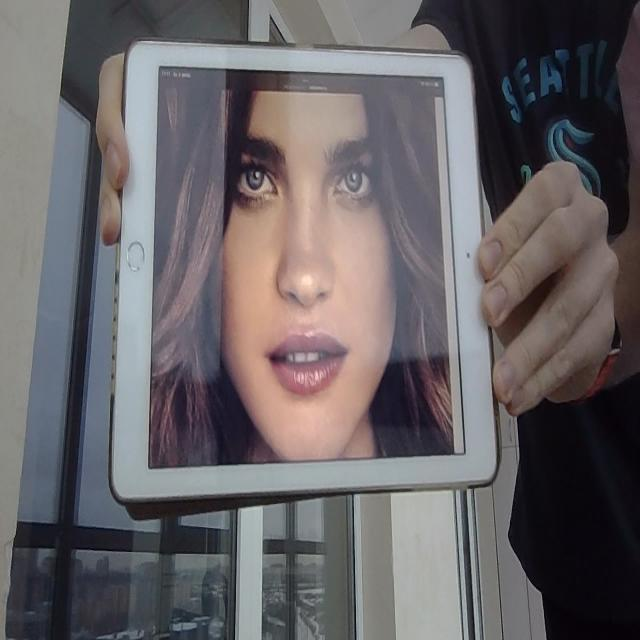device: (109, 30, 506, 523)
